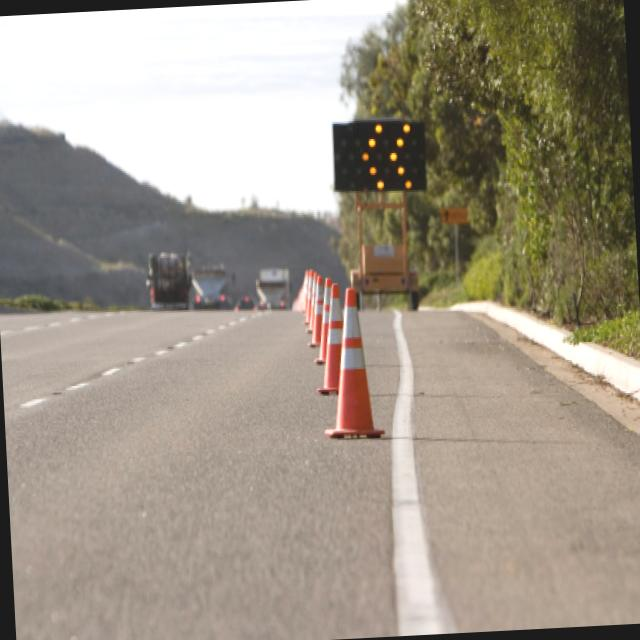cone: (324, 283, 380, 444)
